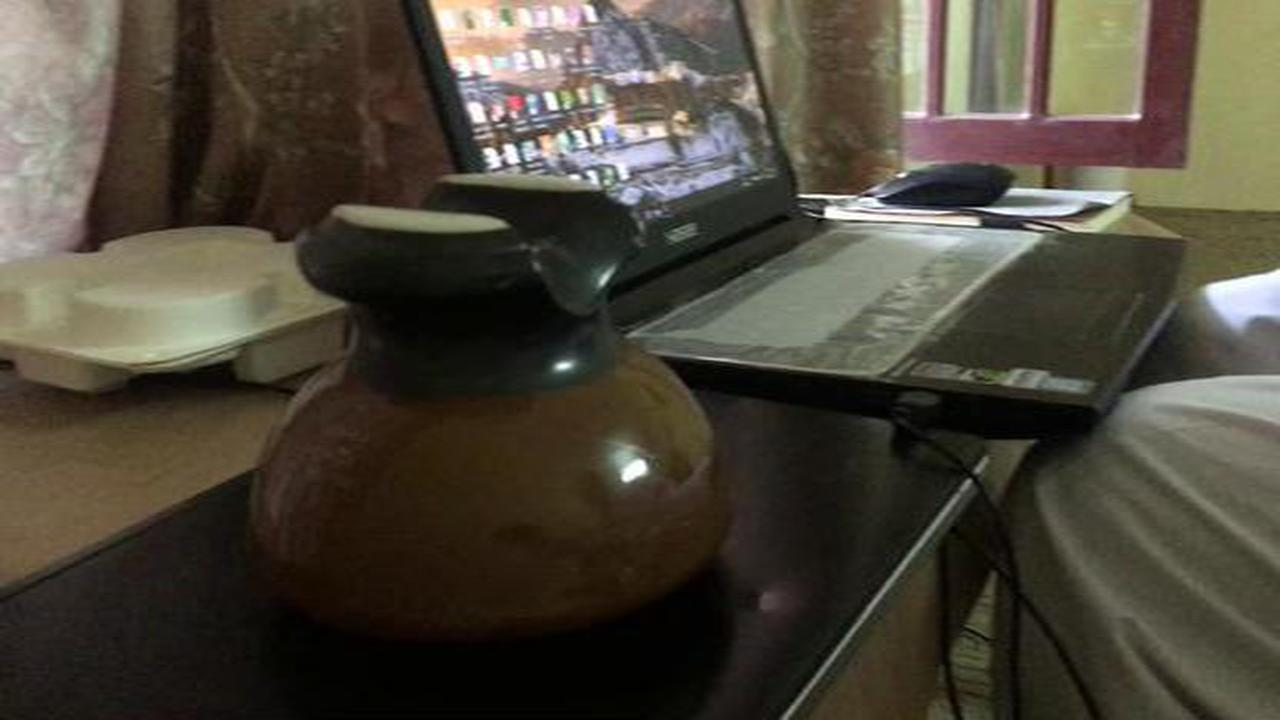insulator_pin: (222, 166, 767, 653)
